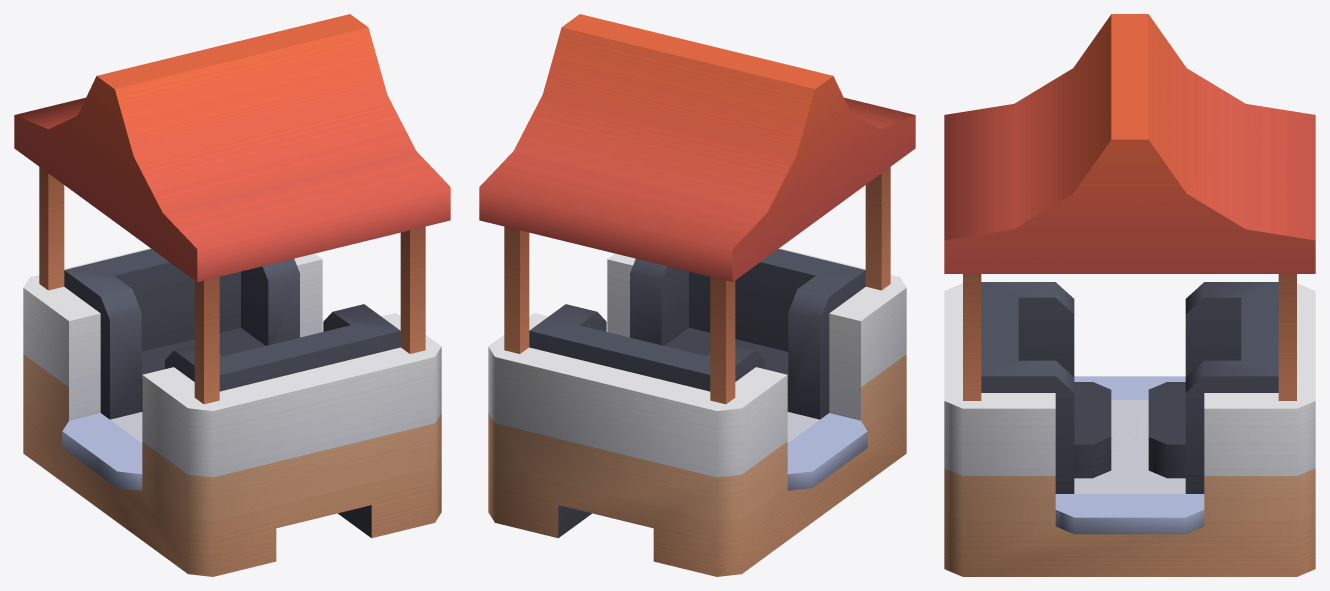
The model's file is train-monorail.glb.
3 renders of one model, left to right at view 1: azimuth 30°, elevation 25°; view 2: azimuth 150°, elevation 25°; view 3: azimuth 270°, elevation 25°, orthographic.
Visible parts, largest first — view 1: train-monorail; view 2: train-monorail; view 3: train-monorail.
Boxes of the visible parts, <box> form: train-monorail: <box>14,14,450,576</box>; train-monorail: <box>479,14,915,576</box>; train-monorail: <box>944,14,1315,576</box>.
Bounding box in the file's own units: 2.7 × 3.9 × 3.
Materials: 1 (1 with a texture image).
